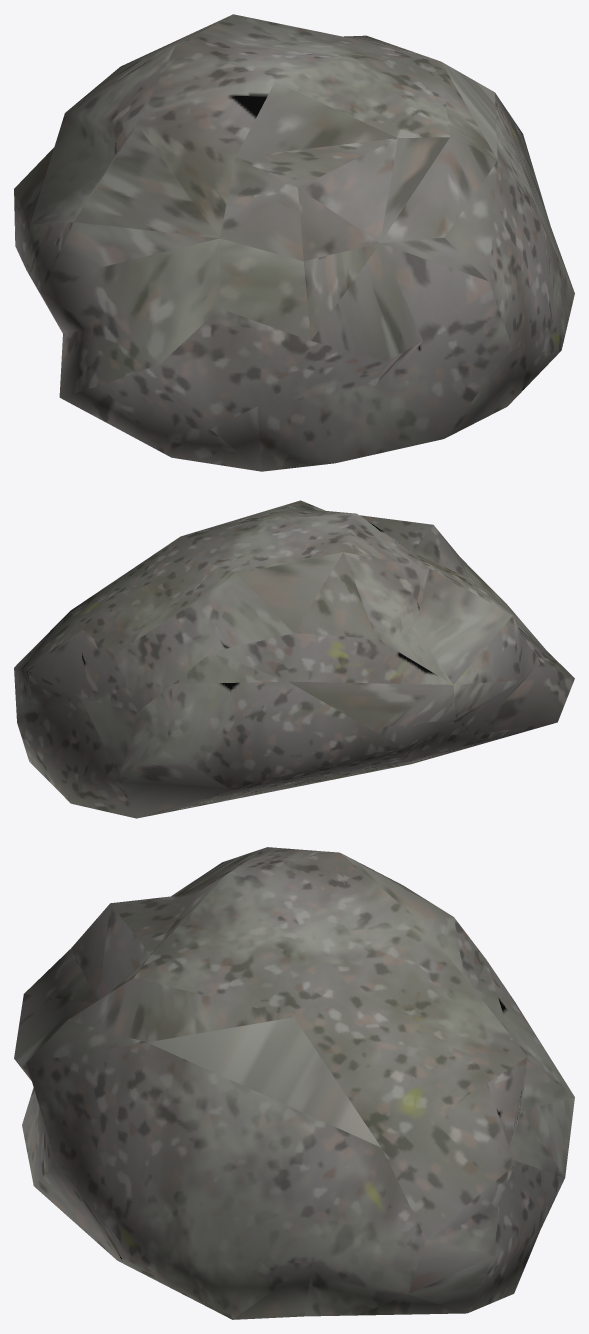
The model's file is boulder_050_LOD2.fbx.
The picture shows the model from 3 angles, top to bottom: view 1: azimuth 30°, elevation 25°; view 2: azimuth 150°, elevation 25°; view 3: azimuth 270°, elevation 25°; orthographic projection. The views are drawn at different scales.
Parts seen in each view (by area): view 1: Boulder_050_LOD2; view 2: Boulder_050_LOD2; view 3: Boulder_050_LOD2.
Boxes of the visible parts, x1,y1,x2,y2 form: Boulder_050_LOD2: (14,14,574,471); Boulder_050_LOD2: (14,500,574,818); Boulder_050_LOD2: (14,847,574,1319).
Size of the model in its own units: 0.4753 by 0.2557 by 0.4108.
1 material, 1 textured.
